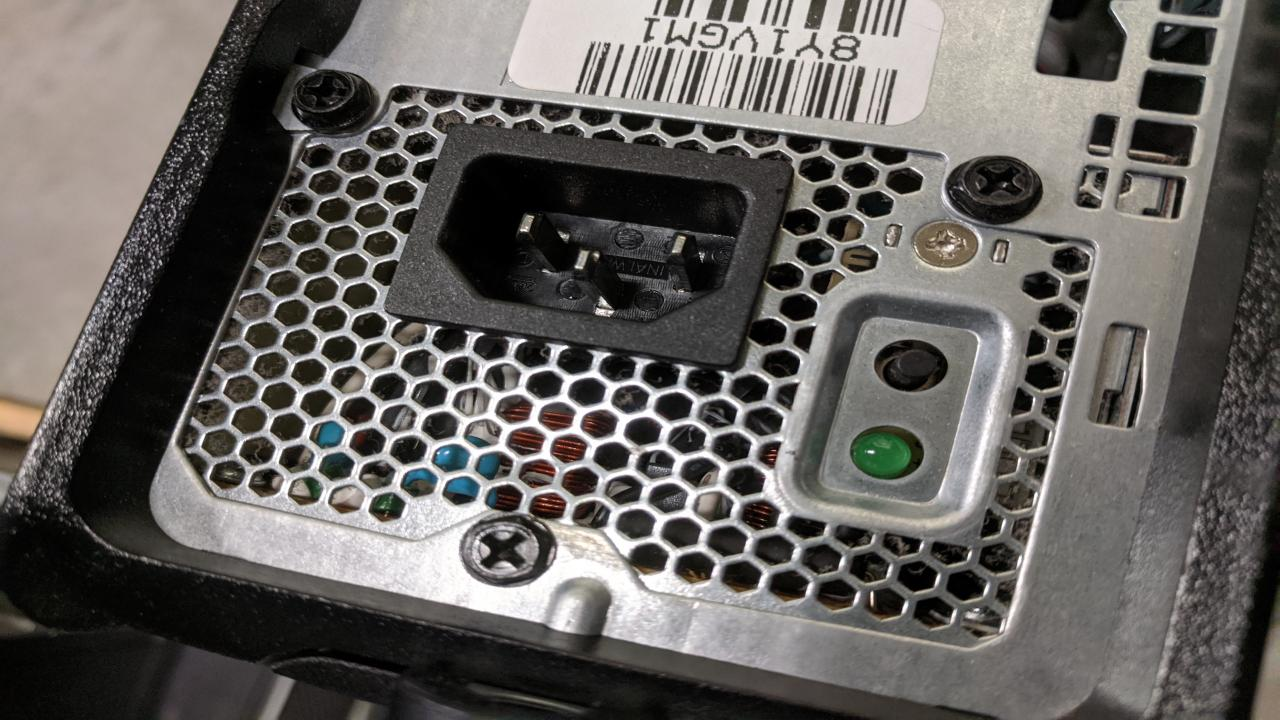CRS: (946, 151, 1055, 217), (459, 523, 560, 583), (296, 66, 372, 124), (911, 218, 982, 266)
